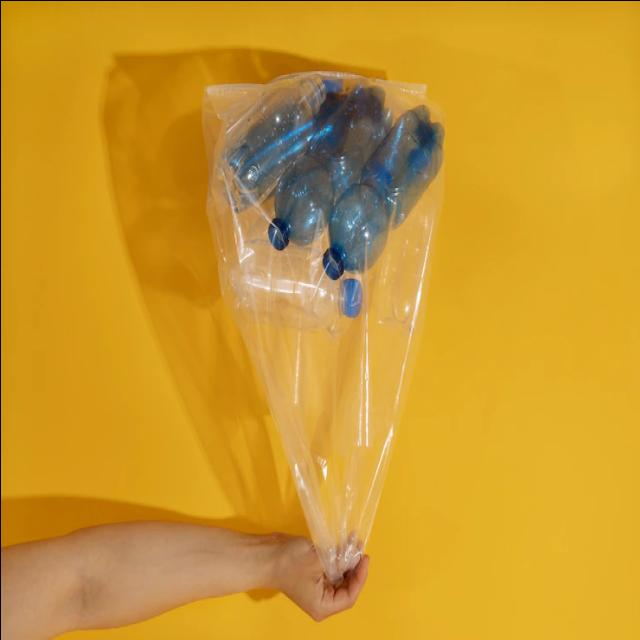plastic_bag: (187, 33, 458, 604)
plastic_bottle: (311, 95, 455, 281), (265, 81, 395, 261)
